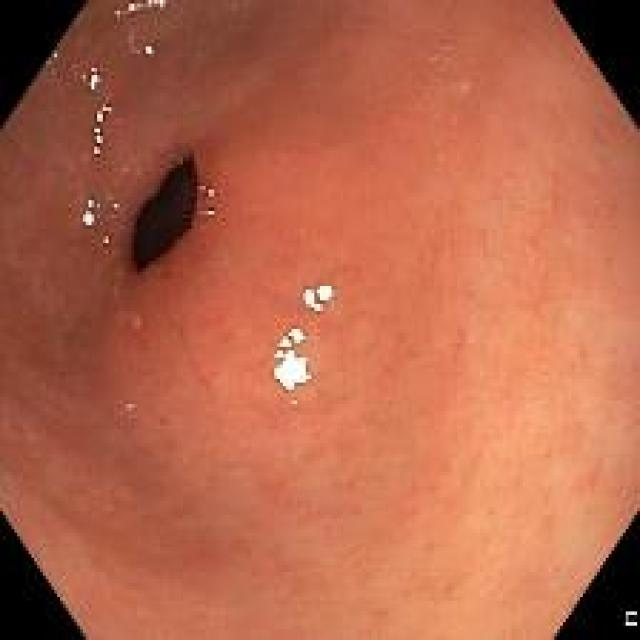bubbles: (198, 184, 216, 201), (197, 205, 214, 222)
contrast: (130, 157, 198, 275)
specularity: (273, 326, 311, 389), (302, 282, 334, 313), (93, 104, 105, 158), (88, 65, 99, 94), (140, 1, 165, 8), (83, 210, 94, 225), (85, 197, 94, 211), (146, 43, 154, 57), (127, 4, 136, 14), (102, 235, 109, 243)
